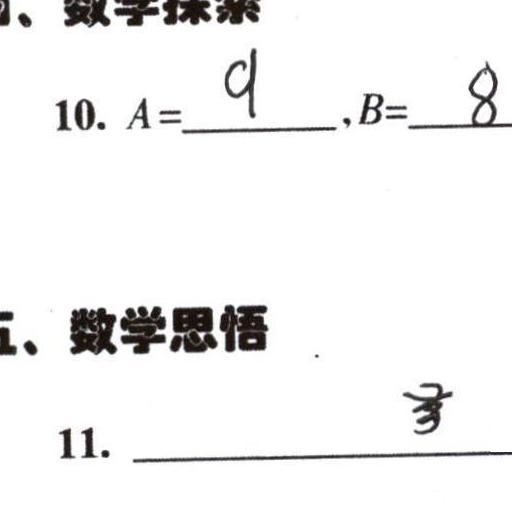ans: (221, 45, 262, 121), (466, 61, 501, 126)
